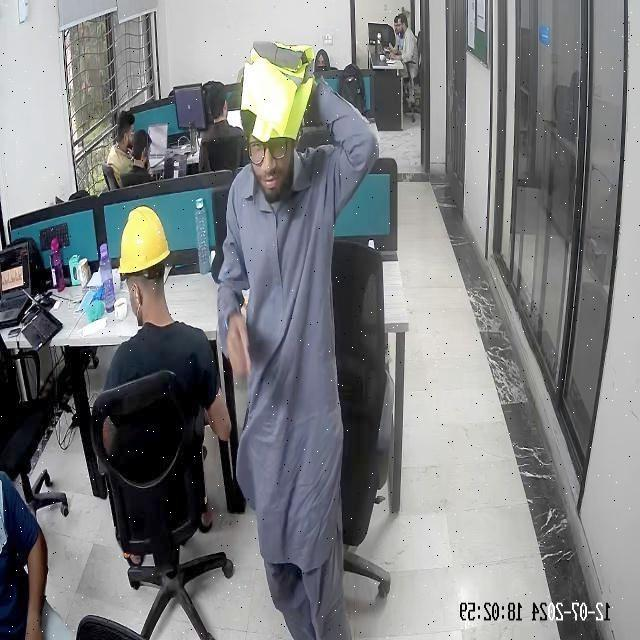no_apron: (220, 317, 248, 378)
no_hairnet: (245, 148, 294, 202)
